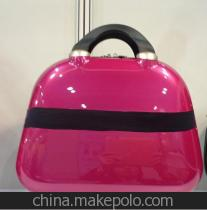shoutibox: (14, 24, 203, 193)
